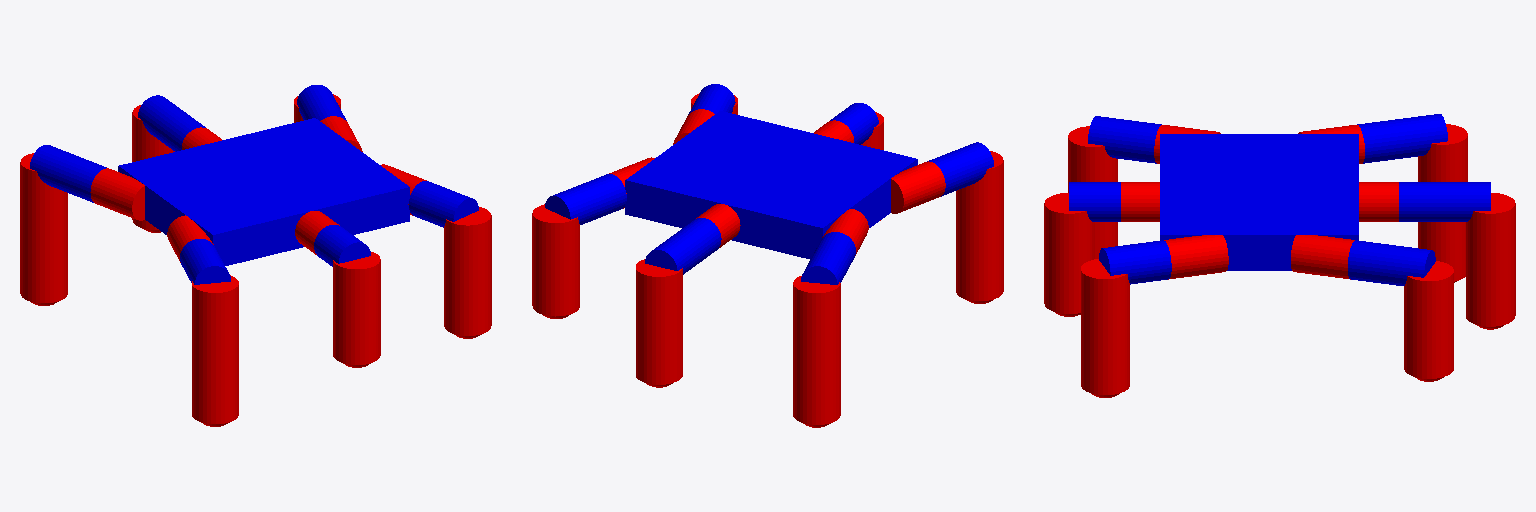
--- Facts derived from the render (not from the file) ---
The picture shows the robot from 3 angles, left to right: view 1: azimuth 30°, elevation 25°; view 2: azimuth 150°, elevation 25°; view 3: azimuth 270°, elevation 25°; orthographic projection.
Robot: pexod — 19 links, 18 joints (18 revolute); root link base_link; default pose: all joints at 0.
Links seen in each view (by area): view 1: base_link, leg_5_3, leg_0_3, leg_3_3, leg_4_3, leg_0_2, leg_3_2, leg_0_1, leg_1_2, leg_5_2, leg_4_2, leg_1_3 (+5 smaller); view 2: base_link, leg_0_3, leg_5_3, leg_1_3, leg_2_3, leg_2_2, leg_1_2, leg_5_1, leg_0_2, leg_5_2, leg_4_2, leg_3_2 (+4 smaller); view 3: base_link, leg_3_3, leg_1_3, leg_2_3, leg_4_3, leg_0_3, leg_1_2, leg_0_2, leg_2_2, leg_5_3, leg_5_2, leg_3_2 (+6 smaller).
Link boxes in pixels (bbox=[...]): base_link: bbox=[118, 118, 409, 265]; leg_5_3: bbox=[192, 275, 238, 426]; leg_0_3: bbox=[20, 153, 67, 305]; leg_3_3: bbox=[444, 207, 491, 338]; leg_4_3: bbox=[333, 252, 380, 367]; leg_0_2: bbox=[30, 145, 106, 202]; leg_3_2: bbox=[409, 181, 478, 227]; leg_0_1: bbox=[90, 168, 144, 220]; leg_1_2: bbox=[138, 95, 205, 151]; leg_5_2: bbox=[180, 239, 230, 284]; leg_4_2: bbox=[314, 225, 370, 266]; leg_1_3: bbox=[132, 105, 174, 232]; base_link: bbox=[625, 111, 917, 259]; leg_0_3: bbox=[793, 276, 840, 427]; leg_5_3: bbox=[956, 151, 1003, 303]; leg_1_3: bbox=[636, 259, 682, 387]; leg_2_3: bbox=[532, 204, 579, 318]; leg_2_2: bbox=[545, 174, 626, 224]; leg_1_2: bbox=[645, 218, 721, 274]; leg_5_1: bbox=[891, 161, 945, 213]; leg_0_2: bbox=[801, 232, 855, 284]; leg_5_2: bbox=[927, 142, 993, 196]; leg_4_2: bbox=[830, 103, 878, 144]; leg_3_2: bbox=[688, 84, 735, 114]; base_link: bbox=[1160, 134, 1358, 270]; leg_3_3: bbox=[1081, 259, 1129, 397]; leg_1_3: bbox=[1466, 193, 1515, 329]; leg_2_3: bbox=[1404, 261, 1453, 381]; leg_4_3: bbox=[1044, 193, 1093, 316]; leg_0_3: bbox=[1418, 124, 1467, 282]; leg_1_2: bbox=[1399, 182, 1490, 221]; leg_0_2: bbox=[1357, 114, 1447, 163]; leg_2_2: bbox=[1348, 240, 1435, 285]; leg_5_3: bbox=[1068, 126, 1117, 258]; leg_5_2: bbox=[1088, 116, 1161, 163]; leg_3_2: bbox=[1099, 240, 1171, 284].
Bounding box of the posed robot: 0.3749 × 0.4741 × 0.1858 m (x, y, z).
Geometry: primitives only (box / cylinder / sphere), no mesh files.

The robot description file, URDF, robot "pexod":
<?xml version="1.0" ?>
<!-- =================================================================================== -->
<!-- |    This document was autogenerated by xacro from pexod.xacro                    | -->
<!-- |    EDITING THIS FILE BY HAND IS NOT RECOMMENDED                                 | -->
<!-- =================================================================================== -->
<robot name="pexod" xmlns:xacro="http://www.ros.org/wiki/xacro">
  <!-- <xacro:include filename="$(find pexod_description)/urdf/pexod_control.xacro" /> -->
  <!-- MATERIALS -->
  <material name="Blue">
    <color rgba="0 0 1 1"/>
  </material>
  <material name="Red">
    <color rgba="1 0 0 1"/>
  </material>
  <material name="Green">
    <color rgba="0 1 0 1"/>
  </material>
  <material name="Yellow">
    <color rgba="1 1 0 1"/>
  </material>
  <material name="LightGrey">
    <color rgba="0.6 0.6 0.6 1.0"/>
  </material>
  <!-- END OF MATERIALS -->
  <!-- XACRO MACROS FOR VISUALS AND COLLISIONS -->
  <!-- END OF XACRO MACROS -->
  <!-- TORSO -->
  <link name="base_link">
    <visual>
      <origin rpy="0 0 0" xyz="0 0 0"/>
      <geometry>
        <box size="0.24 0.2 0.04"/>
      </geometry>
      <material name="Blue"/>
    </visual>
    <collision>
      <origin rpy="0 0 0" xyz="0 0 0"/>
      <geometry>
        <box size="0.24 0.2 0.04"/>
      </geometry>
    </collision>
    <inertial>
      <!-- CENTER OF MASS -->
      <origin rpy="0 0 0" xyz="0 0 0"/>
      <mass value="1.031"/>
      <!-- box inertia: 1/12*m(y^2+z^2), ... -->
      <inertia ixx="0.00357413333333" ixy="0" ixz="0" iyy="0.00508626666667" iyz="0" izz="0.00838546666667"/>
    </inertial>
  </link>
  <!-- XACRO MACRO FOR LEGS LINKS/JOINTS -->
  <!-- END OF LEG LINKS/JOINTS -->
  <joint name="body_leg_2" type="revolute">
    <parent link="base_link"/>
    <child link="leg_2_1"/>
    <limit effort="30.0" lower="-1.57079632679" upper="1.57079632679" velocity="7.0"/>
    <origin rpy="0 0 -0.3" xyz="0.11 0.04 0"/>
    <!-- <xacro:if value="${index == 5 or index == 4 or index == 3}">
                <axis xyz="0 0 1"/>
            </xacro:if>
            <xacro:if value="${index == 2 or index == 1 or index == 0}"> -->
    <axis xyz="0 0 1"/>
    <!-- </xacro:if> -->
    <dynamics damping="0.0"/>
  </joint>
  <link name="leg_2_1">
    <visual>
      <origin rpy="1.57079632679 0 0" xyz="0.01 0.03 0"/>
      <geometry>
        <cylinder length="0.06" radius="0.02"/>
      </geometry>
      <material name="Red"/>
    </visual>
    <collision>
      <origin rpy="1.57079632679 0 0" xyz="0.01 0.03 0"/>
      <geometry>
        <box size="0.02 0.02 0.06"/>
      </geometry>
    </collision>
    <inertial>
      <!-- CENTER OF MASS -->
      <origin rpy="1.57079632679 0 0" xyz="0.01 0.03 0"/>
      <mass value="0.02"/>
      <!-- box inertia: 1/12*m(y^2+z^2), ... -->
      <inertia ixx="6.66666666667e-06" ixy="0" ixz="0" iyy="6.66666666667e-06" iyz="0" izz="1.33333333333e-06"/>
    </inertial>
  </link>
  <joint name="leg_2_1_2" type="revolute">
    <parent link="leg_2_1"/>
    <child link="leg_2_2"/>
    <limit effort="30.0" lower="-0.78539816339" upper="0.78539816339" velocity="7.0"/>
    <origin rpy="0 0 0" xyz="0 0.06 0"/>
    <axis xyz="1 0 0"/>
    <dynamics damping="0.0"/>
  </joint>
  <link name="leg_2_2">
    <visual>
      <origin rpy="1.57079632679 0 0" xyz="0.01 0.0403274020572 0"/>
      <geometry>
        <cylinder length="0.0806548041144" radius="0.02"/>
      </geometry>
      <material name="Blue"/>
    </visual>
    <collision>
      <origin rpy="1.57079632679 0 0" xyz="0.01 0.0403274020572 0"/>
      <geometry>
        <box size="0.02 0.02 0.0806548041144"/>
      </geometry>
    </collision>
    <inertial>
      <!-- CENTER OF MASS -->
      <origin rpy="1.57079632679 0 0" xyz="0.01 0.0403274020572 0"/>
      <mass value="0.184"/>
      <!-- box inertia: 1/12*m(y^2+z^2), ... -->
      <inertia ixx="0.000105879693877" ixy="0" ixz="0" iyy="0.000105879693877" iyz="0" izz="1.22666666667e-05"/>
    </inertial>
  </link>
  <joint name="leg_2_2_3" type="revolute">
    <parent link="leg_2_2"/>
    <child link="leg_2_3"/>
    <limit effort="30.0" lower="-0.78539816339" upper="0.78539816339" velocity="7.0"/>
    <origin rpy="-1.57079632679 0 0" xyz="0 0.0806548041144 0"/>
    <axis xyz="-1 0 0"/>
    <dynamics damping="0.0"/>
  </joint>
  <link name="leg_2_3">
    <visual>
      <origin rpy="1.57079632679 0 0" xyz="0.0125 0.0542425173815 0"/>
      <geometry>
        <cylinder length="0.108485034763" radius="0.025"/>
      </geometry>
      <material name="Red"/>
    </visual>
    <visual>
      <origin rpy="1.57079632679 0 0" xyz="0.0125 0.095985034763 0"/>
      <geometry>
        <sphere radius="0.025"/>
      </geometry>
      <material name="Red"/>
    </visual>
    <collision>
      <origin rpy="1.57079632679 0 0" xyz="0.0125 0.0542425173815 0"/>
      <geometry>
        <box size="0.025 0.025 0.108485034763"/>
      </geometry>
    </collision>
    <collision>
      <origin rpy="1.57079632679 0 0" xyz="0.0125 0.095985034763 0"/>
      <geometry>
        <sphere radius="0.025"/>
      </geometry>
      <material name="Red"/>
    </collision>
    <inertial>
      <!-- CENTER OF MASS -->
      <origin rpy="1.57079632679 0 0" xyz="0.0125 0.0542425173815 0"/>
      <mass value="0.04"/>
      <!-- box inertia: 1/12*m(y^2+z^2), ... -->
      <inertia ixx="4.13133425584e-05" ixy="0" ixz="0" iyy="4.13133425584e-05" iyz="0" izz="4.16666666667e-06"/>
    </inertial>
  </link>
  <joint name="body_leg_3" type="revolute">
    <parent link="base_link"/>
    <child link="leg_3_1"/>
    <limit effort="30.0" lower="-1.57079632679" upper="1.57079632679" velocity="7.0"/>
    <origin rpy="0 0 0.3" xyz="0.11 -0.04 0"/>
    <!-- <xacro:if value="${index == 5 or index == 4 or index == 3}">
                <axis xyz="0 0 1"/>
            </xacro:if>
            <xacro:if value="${index == 2 or index == 1 or index == 0}"> -->
    <axis xyz="0 0 1"/>
    <!-- </xacro:if> -->
    <dynamics damping="0.0"/>
  </joint>
  <link name="leg_3_1">
    <visual>
      <origin rpy="1.57079632679 0 0" xyz="0.01 -0.03 0"/>
      <geometry>
        <cylinder length="0.06" radius="0.02"/>
      </geometry>
      <material name="Red"/>
    </visual>
    <collision>
      <origin rpy="1.57079632679 0 0" xyz="0.01 -0.03 0"/>
      <geometry>
        <box size="0.02 0.02 0.06"/>
      </geometry>
    </collision>
    <inertial>
      <!-- CENTER OF MASS -->
      <origin rpy="1.57079632679 0 0" xyz="0.01 -0.03 0"/>
      <mass value="0.02"/>
      <!-- box inertia: 1/12*m(y^2+z^2), ... -->
      <inertia ixx="6.66666666667e-06" ixy="0" ixz="0" iyy="6.66666666667e-06" iyz="0" izz="1.33333333333e-06"/>
    </inertial>
  </link>
  <joint name="leg_3_1_2" type="revolute">
    <parent link="leg_3_1"/>
    <child link="leg_3_2"/>
    <limit effort="30.0" lower="-0.78539816339" upper="0.78539816339" velocity="7.0"/>
    <origin rpy="0 0 0" xyz="0 -0.06 0"/>
    <axis xyz="-1 0 0"/>
    <dynamics damping="0.0"/>
  </joint>
  <link name="leg_3_2">
    <visual>
      <origin rpy="1.57079632679 0 0" xyz="0.01 -0.0321792068378 0"/>
      <geometry>
        <cylinder length="0.0643584136756" radius="0.02"/>
      </geometry>
      <material name="Blue"/>
    </visual>
    <collision>
      <origin rpy="1.57079632679 0 0" xyz="0.01 -0.0321792068378 0"/>
      <geometry>
        <box size="0.02 0.02 0.0643584136756"/>
      </geometry>
    </collision>
    <inertial>
      <!-- CENTER OF MASS -->
      <origin rpy="1.57079632679 0 0" xyz="0.01 -0.0321792068378 0"/>
      <mass value="0.184"/>
      <!-- box inertia: 1/12*m(y^2+z^2), ... -->
      <inertia ixx="6.96440829662e-05" ixy="0" ixz="0" iyy="6.96440829662e-05" iyz="0" izz="1.22666666667e-05"/>
    </inertial>
  </link>
  <joint name="leg_3_2_3" type="revolute">
    <parent link="leg_3_2"/>
    <child link="leg_3_3"/>
    <limit effort="30.0" lower="-0.78539816339" upper="0.78539816339" velocity="7.0"/>
    <origin rpy="1.57079632679 0 0" xyz="0 -0.0643584136756 0"/>
    <axis xyz="1 0 0"/>
    <dynamics damping="0.0"/>
  </joint>
  <link name="leg_3_3">
    <visual>
      <origin rpy="1.57079632679 0 0" xyz="0.0125 -0.0643811270965 0"/>
      <geometry>
        <cylinder length="0.128762254193" radius="0.025"/>
      </geometry>
      <material name="Red"/>
    </visual>
    <visual>
      <origin rpy="1.57079632679 0 0" xyz="0.0125 -0.116262254193 0"/>
      <geometry>
        <sphere radius="0.025"/>
      </geometry>
      <material name="Red"/>
    </visual>
    <collision>
      <origin rpy="1.57079632679 0 0" xyz="0.0125 -0.0643811270965 0"/>
      <geometry>
        <box size="0.025 0.025 0.128762254193"/>
      </geometry>
    </collision>
    <collision>
      <origin rpy="1.57079632679 0 0" xyz="0.0125 -0.116262254193 0"/>
      <geometry>
        <sphere radius="0.025"/>
      </geometry>
      <material name="Red"/>
    </collision>
    <inertial>
      <!-- CENTER OF MASS -->
      <origin rpy="1.57079632679 0 0" xyz="0.0125 -0.0643811270965 0"/>
      <mass value="0.04"/>
      <!-- box inertia: 1/12*m(y^2+z^2), ... -->
      <inertia ixx="5.73490603495e-05" ixy="0" ixz="0" iyy="5.73490603495e-05" iyz="0" izz="4.16666666667e-06"/>
    </inertial>
  </link>
  <joint name="body_leg_0" type="revolute">
    <parent link="base_link"/>
    <child link="leg_0_1"/>
    <limit effort="30.0" lower="-1.57079632679" upper="1.57079632679" velocity="7.0"/>
    <origin rpy="0 0 0.3" xyz="-0.13 0.04 0"/>
    <!-- <xacro:if value="${index == 5 or index == 4 or index == 3}">
                <axis xyz="0 0 1"/>
            </xacro:if>
            <xacro:if value="${index == 2 or index == 1 or index == 0}"> -->
    <axis xyz="0 0 1"/>
    <!-- </xacro:if> -->
    <dynamics damping="0.0"/>
  </joint>
  <link name="leg_0_1">
    <visual>
      <origin rpy="1.57079632679 0 0" xyz="0.01 0.03 0"/>
      <geometry>
        <cylinder length="0.06" radius="0.02"/>
      </geometry>
      <material name="Red"/>
    </visual>
    <collision>
      <origin rpy="1.57079632679 0 0" xyz="0.01 0.03 0"/>
      <geometry>
        <box size="0.02 0.02 0.06"/>
      </geometry>
    </collision>
    <inertial>
      <!-- CENTER OF MASS -->
      <origin rpy="1.57079632679 0 0" xyz="0.01 0.03 0"/>
      <mass value="0.02"/>
      <!-- box inertia: 1/12*m(y^2+z^2), ... -->
      <inertia ixx="6.66666666667e-06" ixy="0" ixz="0" iyy="6.66666666667e-06" iyz="0" izz="1.33333333333e-06"/>
    </inertial>
  </link>
  <joint name="leg_0_1_2" type="revolute">
    <parent link="leg_0_1"/>
    <child link="leg_0_2"/>
    <limit effort="30.0" lower="-0.78539816339" upper="0.78539816339" velocity="7.0"/>
    <origin rpy="0 0 0" xyz="0 0.06 0"/>
    <axis xyz="1 0 0"/>
    <dynamics damping="0.0"/>
  </joint>
  <link name="leg_0_2">
    <visual>
      <origin rpy="1.57079632679 0 0" xyz="0.01 0.0437415488399 0"/>
      <geometry>
        <cylinder length="0.0874830976799" radius="0.02"/>
      </geometry>
      <material name="Blue"/>
    </visual>
    <collision>
      <origin rpy="1.57079632679 0 0" xyz="0.01 0.0437415488399 0"/>
      <geometry>
        <box size="0.02 0.02 0.0874830976799"/>
      </geometry>
    </collision>
    <inertial>
      <!-- CENTER OF MASS -->
      <origin rpy="1.57079632679 0 0" xyz="0.01 0.0437415488399 0"/>
      <mass value="0.184"/>
      <!-- box inertia: 1/12*m(y^2+z^2), ... -->
      <inertia ixx="0.000123483816488" ixy="0" ixz="0" iyy="0.000123483816488" iyz="0" izz="1.22666666667e-05"/>
    </inertial>
  </link>
  <joint name="leg_0_2_3" type="revolute">
    <parent link="leg_0_2"/>
    <child link="leg_0_3"/>
    <limit effort="30.0" lower="-0.78539816339" upper="0.78539816339" velocity="7.0"/>
    <origin rpy="-1.57079632679 0 0" xyz="0 0.0874830976799 0"/>
    <axis xyz="-1 0 0"/>
    <dynamics damping="0.0"/>
  </joint>
  <link name="leg_0_3">
    <visual>
      <origin rpy="1.57079632679 0 0" xyz="0.0125 0.076631079562 0"/>
      <geometry>
        <cylinder length="0.153262159124" radius="0.025"/>
      </geometry>
      <material name="Red"/>
    </visual>
    <visual>
      <origin rpy="1.57079632679 0 0" xyz="0.0125 0.140762159124 0"/>
      <geometry>
        <sphere radius="0.025"/>
      </geometry>
      <material name="Red"/>
    </visual>
    <collision>
      <origin rpy="1.57079632679 0 0" xyz="0.0125 0.076631079562 0"/>
      <geometry>
        <box size="0.025 0.025 0.153262159124"/>
      </geometry>
    </collision>
    <collision>
      <origin rpy="1.57079632679 0 0" xyz="0.0125 0.140762159124 0"/>
      <geometry>
        <sphere radius="0.025"/>
      </geometry>
      <material name="Red"/>
    </collision>
    <inertial>
      <!-- CENTER OF MASS -->
      <origin rpy="1.57079632679 0 0" xyz="0.0125 0.076631079562 0"/>
      <mass value="0.04"/>
      <!-- box inertia: 1/12*m(y^2+z^2), ... -->
      <inertia ixx="8.03809647312e-05" ixy="0" ixz="0" iyy="8.03809647312e-05" iyz="0" izz="4.16666666667e-06"/>
    </inertial>
  </link>
  <joint name="body_leg_5" type="revolute">
    <parent link="base_link"/>
    <child link="leg_5_1"/>
    <limit effort="30.0" lower="-1.57079632679" upper="1.57079632679" velocity="7.0"/>
    <origin rpy="0 0 -0.3" xyz="-0.13 -0.04 0"/>
    <!-- <xacro:if value="${index == 5 or index == 4 or index == 3}">
                <axis xyz="0 0 1"/>
            </xacro:if>
            <xacro:if value="${index == 2 or index == 1 or index == 0}"> -->
    <axis xyz="0 0 1"/>
    <!-- </xacro:if> -->
    <dynamics damping="0.0"/>
  </joint>
  <link name="leg_5_1">
    <visual>
      <origin rpy="1.57079632679 0 0" xyz="0.01 -0.03 0"/>
      <geometry>
        <cylinder length="0.06" radius="0.02"/>
      </geometry>
      <material name="Red"/>
    </visual>
    <collision>
      <origin rpy="1.57079632679 0 0" xyz="0.01 -0.03 0"/>
      <geometry>
        <box size="0.02 0.02 0.06"/>
      </geometry>
    </collision>
    <inertial>
      <!-- CENTER OF MASS -->
      <origin rpy="1.57079632679 0 0" xyz="0.01 -0.03 0"/>
      <mass value="0.02"/>
      <!-- box inertia: 1/12*m(y^2+z^2), ... -->
      <inertia ixx="6.66666666667e-06" ixy="0" ixz="0" iyy="6.66666666667e-06" iyz="0" izz="1.33333333333e-06"/>
    </inertial>
  </link>
  <joint name="leg_5_1_2" type="revolute">
    <parent link="leg_5_1"/>
    <child link="leg_5_2"/>
    <limit effort="30.0" lower="-0.78539816339" upper="0.78539816339" velocity="7.0"/>
    <origin rpy="0 0 0" xyz="0 -0.06 0"/>
    <axis xyz="-1 0 0"/>
    <dynamics damping="0.0"/>
  </joint>
  <link name="leg_5_2">
    <visual>
      <origin rpy="1.57079632679 0 0" xyz="0.01 -0.0349364301116 0"/>
      <geometry>
        <cylinder length="0.0698728602232" radius="0.02"/>
      </geometry>
      <material name="Blue"/>
    </visual>
    <collision>
      <origin rpy="1.57079632679 0 0" xyz="0.01 -0.0349364301116 0"/>
      <geometry>
        <box size="0.02 0.02 0.0698728602232"/>
      </geometry>
    </collision>
    <inertial>
      <!-- CENTER OF MASS -->
      <origin rpy="1.57079632679 0 0" xyz="0.01 -0.0349364301116 0"/>
      <mass value="0.184"/>
      <!-- box inertia: 1/12*m(y^2+z^2), ... -->
      <inertia ixx="8.09939878018e-05" ixy="0" ixz="0" iyy="8.09939878018e-05" iyz="0" izz="1.22666666667e-05"/>
    </inertial>
  </link>
  <joint name="leg_5_2_3" type="revolute">
    <parent link="leg_5_2"/>
    <child link="leg_5_3"/>
    <limit effort="30.0" lower="-0.78539816339" upper="0.78539816339" velocity="7.0"/>
    <origin rpy="1.57079632679 0 0" xyz="0 -0.0698728602232 0"/>
    <axis xyz="1 0 0"/>
    <dynamics damping="0.0"/>
  </joint>
  <link name="leg_5_3">
    <visual>
      <origin rpy="1.57079632679 0 0" xyz="0.0125 -0.076484278593 0"/>
      <geometry>
        <cylinder length="0.152968557186" radius="0.025"/>
      </geometry>
      <material name="Red"/>
    </visual>
    <visual>
      <origin rpy="1.57079632679 0 0" xyz="0.0125 -0.140468557186 0"/>
      <geometry>
        <sphere radius="0.025"/>
      </geometry>
      <material name="Red"/>
    </visual>
    <collision>
      <origin rpy="1.57079632679 0 0" xyz="0.0125 -0.076484278593 0"/>
      <geometry>
        <box size="0.025 0.025 0.152968557186"/>
      </geometry>
    </collision>
    <collision>
      <origin rpy="1.57079632679 0 0" xyz="0.0125 -0.140468557186 0"/>
      <geometry>
        <sphere radius="0.025"/>
      </geometry>
      <material name="Red"/>
    </collision>
    <inertial>
      <!-- CENTER OF MASS -->
      <origin rpy="1.57079632679 0 0" xyz="0.0125 -0.076484278593 0"/>
      <mass value="0.04"/>
      <!-- box inertia: 1/12*m(y^2+z^2), ... -->
      <inertia ixx="8.00812649586e-05" ixy="0" ixz="0" iyy="8.00812649586e-05" iyz="0" izz="4.16666666667e-06"/>
    </inertial>
  </link>
  <joint name="body_leg_1" type="revolute">
    <parent link="base_link"/>
    <child link="leg_1_1"/>
    <limit effort="30.0" lower="-1.57079632679" upper="1.57079632679" velocity="7.0"/>
    <origin rpy="0 0 0" xyz="-0.01 0.08 0"/>
    <!-- <xacro:if value="${index == 5 or index == 4 or index == 3}">
                <axis xyz="0 0 1"/>
            </xacro:if>
            <xacro:if value="${index == 2 or index == 1 or index == 0}"> -->
    <axis xyz="0 0 1"/>
    <!-- </xacro:if> -->
    <dynamics damping="0.0"/>
  </joint>
  <link name="leg_1_1">
    <visual>
      <origin rpy="1.57079632679 0 0" xyz="0.01 0.03 0"/>
      <geometry>
        <cylinder length="0.06" radius="0.02"/>
      </geometry>
      <material name="Red"/>
    </visual>
    <collision>
      <origin rpy="1.57079632679 0 0" xyz="0.01 0.03 0"/>
      <geometry>
        <box size="0.02 0.02 0.06"/>
      </geometry>
    </collision>
    <inertial>
      <!-- CENTER OF MASS -->
      <origin rpy="1.57079632679 0 0" xyz="0.01 0.03 0"/>
      <mass value="0.02"/>
      <!-- box inertia: 1/12*m(y^2+z^2), ... -->
      <inertia ixx="6.66666666667e-06" ixy="0" ixz="0" iyy="6.66666666667e-06" iyz="0" izz="1.33333333333e-06"/>
    </inertial>
  </link>
  <joint name="leg_1_1_2" type="revolute">
    <parent link="leg_1_1"/>
    <child link="leg_1_2"/>
    <limit effort="30.0" lower="-0.78539816339" upper="0.78539816339" velocity="7.0"/>
    <origin rpy="0 0 0" xyz="0 0.06 0"/>
    <axis xyz="1 0 0"/>
    <dynamics damping="0.0"/>
  </joint>
  <link name="leg_1_2">
    <visual>
      <origin rpy="1.57079632679 0 0" xyz="0.01 0.0462693226262 0"/>
      <geometry>
        <cylinder length="0.0925386452525" radius="0.02"/>
      </geometry>
      <material name="Blue"/>
    </visual>
    <collision>
      <origin rpy="1.57079632679 0 0" xyz="0.01 0.0462693226262 0"/>
      <geometry>
        <box size="0.02 0.02 0.0925386452525"/>
      </geometry>
    </collision>
    <inertial>
      <!-- CENTER OF MASS -->
      <origin rpy="1.57079632679 0 0" xyz="0.01 0.0462693226262 0"/>
      <mass value="0.184"/>
      <!-- box inertia: 1/12*m(y^2+z^2), ... -->
      <inertia ixx="0.000137438813266" ixy="0" ixz="0" iyy="0.000137438813266" iyz="0" izz="1.22666666667e-05"/>
    </inertial>
  </link>
  <joint name="leg_1_2_3" type="revolute">
    <parent link="leg_1_2"/>
    <child link="leg_1_3"/>
    <limit effort="30.0" lower="-0.78539816339" upper="0.78539816339" velocity="7.0"/>
    <origin rpy="-1.57079632679 0 0" xyz="0 0.0925386452525 0"/>
    <axis xyz="-1 0 0"/>
    <dynamics damping="0.0"/>
  </joint>
  <link name="leg_1_3">
    <visual>
      <origin rpy="1.57079632679 0 0" xyz="0.0125 0.0627097172 0"/>
      <geometry>
        <cylinder length="0.1254194344" radius="0.025"/>
      </geometry>
      <material name="Red"/>
    </visual>
    <visual>
      <origin rpy="1.57079632679 0 0" xyz="0.0125 0.1129194344 0"/>
      <geometry>
        <sphere radius="0.025"/>
      </geometry>
      <material name="Red"/>
    </visual>
    <collision>
      <origin rpy="1.57079632679 0 0" xyz="0.0125 0.0627097172 0"/>
      <geometry>
        <box size="0.025 0.025 0.1254194344"/>
      </geometry>
    </collision>
    <collision>
      <origin rpy="1.57079632679 0 0" xyz="0.0125 0.1129194344 0"/>
      <geometry>
        <sphere radius="0.025"/>
      </geometry>
      <material name="Red"/>
    </collision>
    <inertial>
      <!-- CENTER OF MASS -->
      <origin rpy="1.57079632679 0 0" xyz="0.0125 0.0627097172 0"/>
      <mass value="0.04"/>
      <!-- box inertia: 1/12*m(y^2+z^2), ... -->
      <inertia ixx="5.45167817507e-05" ixy="0" ixz="0" iyy="5.45167817507e-05" iyz="0" izz="4.16666666667e-06"/>
    </inertial>
  </link>
  <joint name="body_leg_4" type="revolute">
    <parent link="base_link"/>
    <child link="leg_4_1"/>
    <limit effort="30.0" lower="-1.57079632679" upper="1.57079632679" velocity="7.0"/>
    <origin rpy="0 0 0" xyz="-0.01 -0.08 0"/>
    <!-- <xacro:if value="${index == 5 or index == 4 or index == 3}">
                <axis xyz="0 0 1"/>
            </xacro:if>
            <xacro:if value="${index == 2 or index == 1 or index == 0}"> -->
    <axis xyz="0 0 1"/>
    <!-- </xacro:if> -->
    <dynamics damping="0.0"/>
  </joint>
  <link name="leg_4_1">
    <visual>
      <origin rpy="1.57079632679 0 0" xyz="0.01 -0.03 0"/>
      <geometry>
        <cylinder length="0.06" radius="0.02"/>
      </geometry>
      <material name="Red"/>
    </visual>
    <collision>
      <origin rpy="1.57079632679 0 0" xyz="0.01 -0.03 0"/>
      <geometry>
        <box size="0.02 0.02 0.06"/>
      </geometry>
    </collision>
    <inertial>
      <!-- CENTER OF MASS -->
      <origin rpy="1.57079632679 0 0" xyz="0.01 -0.03 0"/>
      <mass value="0.02"/>
      <!-- box inertia: 1/12*m(y^2+z^2), ... -->
      <inertia ixx="6.66666666667e-06" ixy="0" ixz="0" iyy="6.66666666667e-06" iyz="0" izz="1.33333333333e-06"/>
    </inertial>
  </link>
  <joint name="leg_4_1_2" type="revolute">
    <parent link="leg_4_1"/>
    <child link="leg_4_2"/>
    <limit effort="30.0" lower="-0.78539816339" upper="0.78539816339" velocity="7.0"/>
    <origin rpy="0 0 0" xyz="0 -0.06 0"/>
    <axis xyz="-1 0 0"/>
    <dynamics damping="0.0"/>
  </joint>
  <link name="leg_4_2">
    <visual>
      <origin rpy="1.57079632679 0 0" xyz="0.01 -0.0257755873175 0"/>
      <geometry>
        <cylinder length="0.051551174635" radius="0.02"/>
      </geometry>
      <material name="Blue"/>
    </visual>
    <collision>
      <origin rpy="1.57079632679 0 0" xyz="0.01 -0.0257755873175 0"/>
      <geometry>
        <box size="0.02 0.02 0.051551174635"/>
      </geometry>
    </collision>
    <inertial>
      <!-- CENTER OF MASS -->
      <origin rpy="1.57079632679 0 0" xyz="0.01 -0.0257755873175 0"/>
      <mass value="0.184"/>
      <!-- box inertia: 1/12*m(y^2+z^2), ... -->
      <inertia ixx="4.68820286291e-05" ixy="0" ixz="0" iyy="4.68820286291e-05" iyz="0" izz="1.22666666667e-05"/>
    </inertial>
  </link>
  <joint name="leg_4_2_3" type="revolute">
    <parent link="leg_4_2"/>
    <child link="leg_4_3"/>
    <limit effort="30.0" lower="-0.78539816339" upper="0.78539816339" velocity="7.0"/>
    <origin rpy="1.57079632679 0 0" xyz="0 -0.051551174635 0"/>
    <axis xyz="1 0 0"/>
    <dynamics damping="0.0"/>
  </joint>
  <link name="leg_4_3">
    <visual>
      <origin rpy="1.57079632679 0 0" xyz="0.0125 -0.0557627968975 0"/>
      <geometry>
        <cylinder length="0.111525593795" radius="0.025"/>
      </geometry>
      <material name="Red"/>
    </visual>
    <visual>
      <origin rpy="1.57079632679 0 0" xyz="0.0125 -0.099025593795 0"/>
      <geometry>
        <sphere radius="0.025"/>
      </geometry>
      <material name="Red"/>
    </visual>
    <collision>
      <origin rpy="1.57079632679 0 0" xyz="0.0125 -0.0557627968975 0"/>
      <geometry>
        <box size="0.025 0.025 0.111525593795"/>
      </geometry>
    </collision>
    <collision>
      <origin rpy="1.57079632679 0 0" xyz="0.0125 -0.099025593795 0"/>
      <geometry>
        <sphere radius="0.025"/>
      </geometry>
      <material name="Red"/>
    </collision>
    <inertial>
      <!-- CENTER OF MASS -->
      <origin rpy="1.57079632679 0 0" xyz="0.0125 -0.0557627968975 0"/>
      <mass value="0.04"/>
      <!-- box inertia: 1/12*m(y^2+z^2), ... -->
      <inertia ixx="4.35431935711e-05" ixy="0" ixz="0" iyy="4.35431935711e-05" iyz="0" izz="4.16666666667e-06"/>
    </inertial>
  </link>
  <!-- END OF LEG LINKS/JOINTS -->
</robot>
